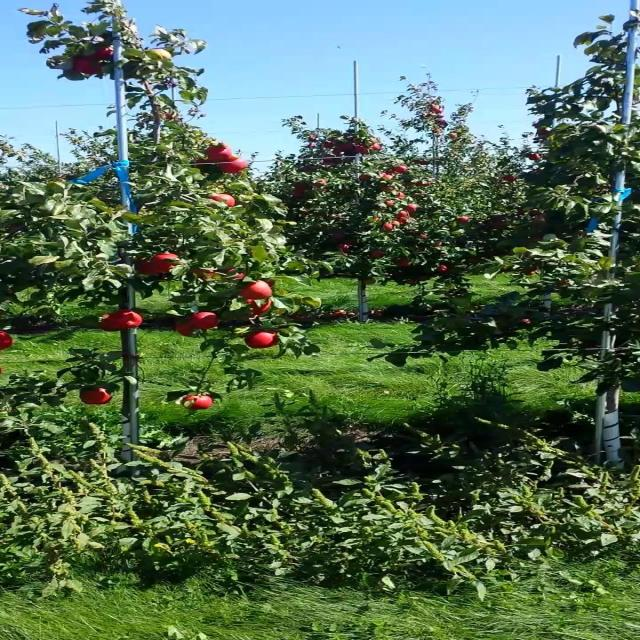apple: (141, 256, 178, 276), (106, 312, 142, 331), (241, 280, 274, 300), (220, 156, 249, 175), (191, 312, 220, 329), (248, 332, 277, 349), (184, 396, 213, 412), (77, 60, 105, 76), (84, 392, 114, 405), (205, 148, 235, 161), (248, 300, 272, 316), (99, 316, 123, 332), (177, 324, 203, 337), (191, 268, 215, 280), (212, 196, 235, 208), (0, 332, 14, 351), (92, 48, 114, 60), (198, 160, 215, 170), (150, 52, 171, 60), (234, 272, 249, 280), (525, 320, 533, 324)
